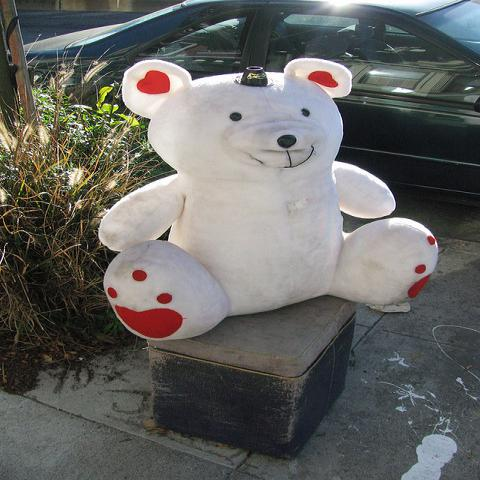car: (24, 0, 479, 210)
